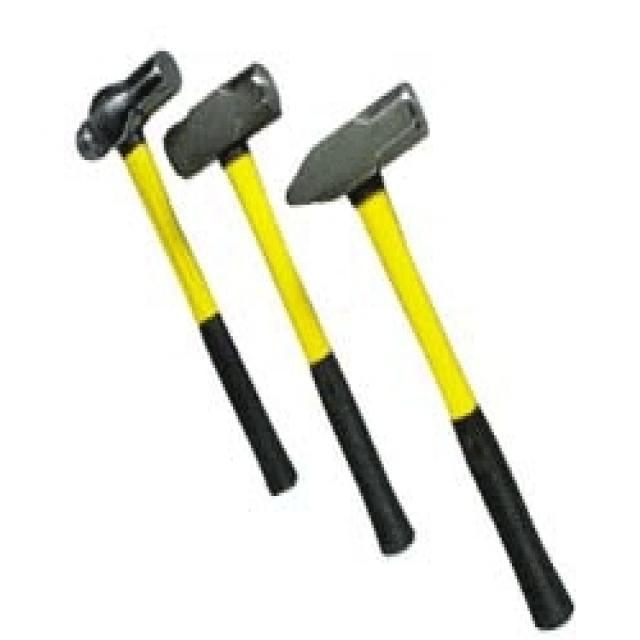hammer: (290, 90, 586, 640), (150, 48, 400, 580), (55, 50, 303, 548)
